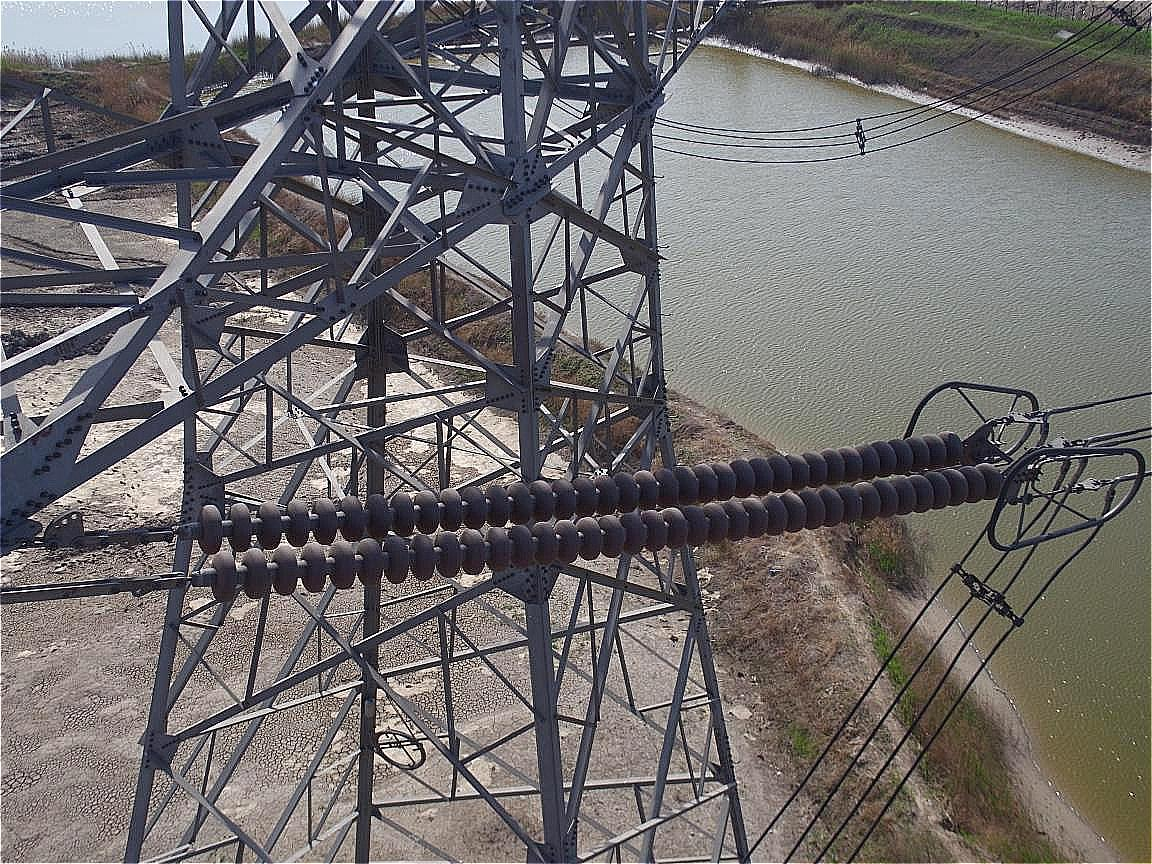insultor1: (165, 418, 1020, 623)
